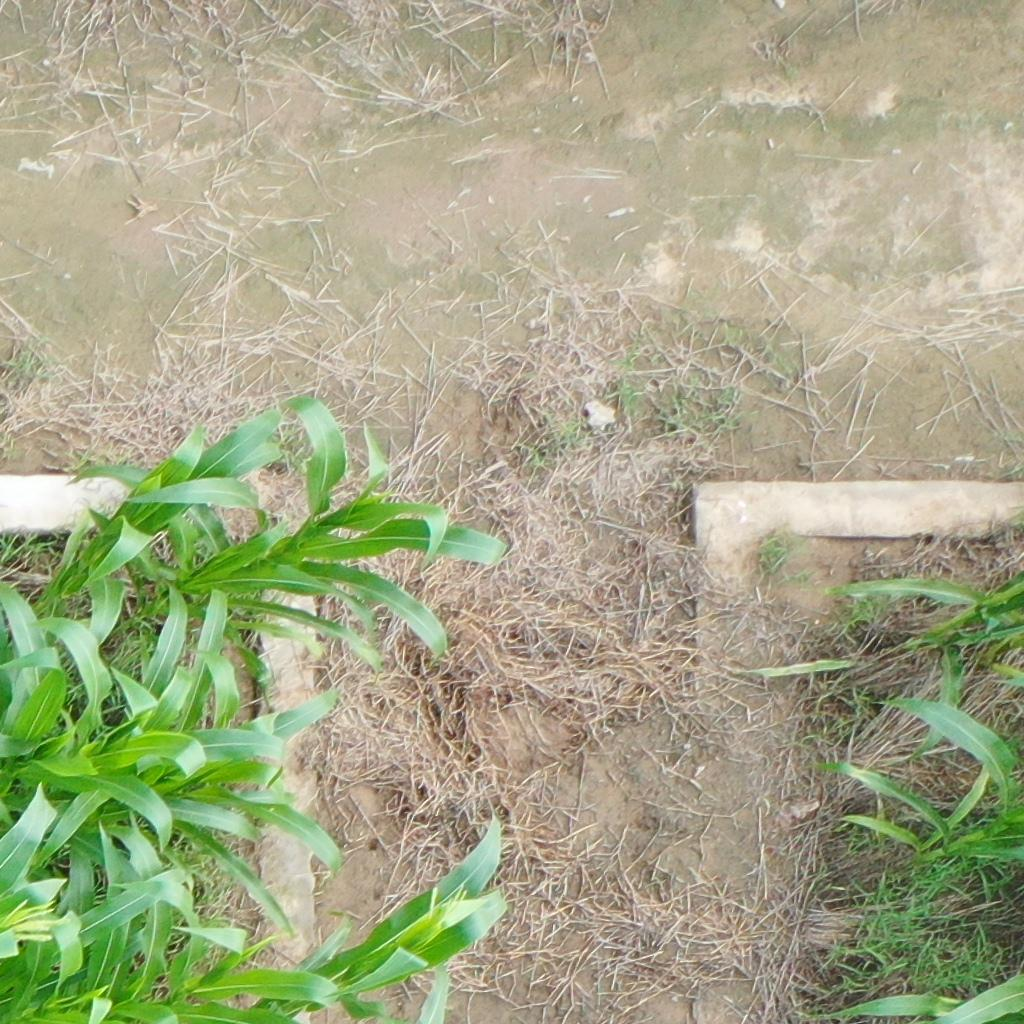Tassel: (1, 892, 62, 951), (418, 884, 472, 936)
